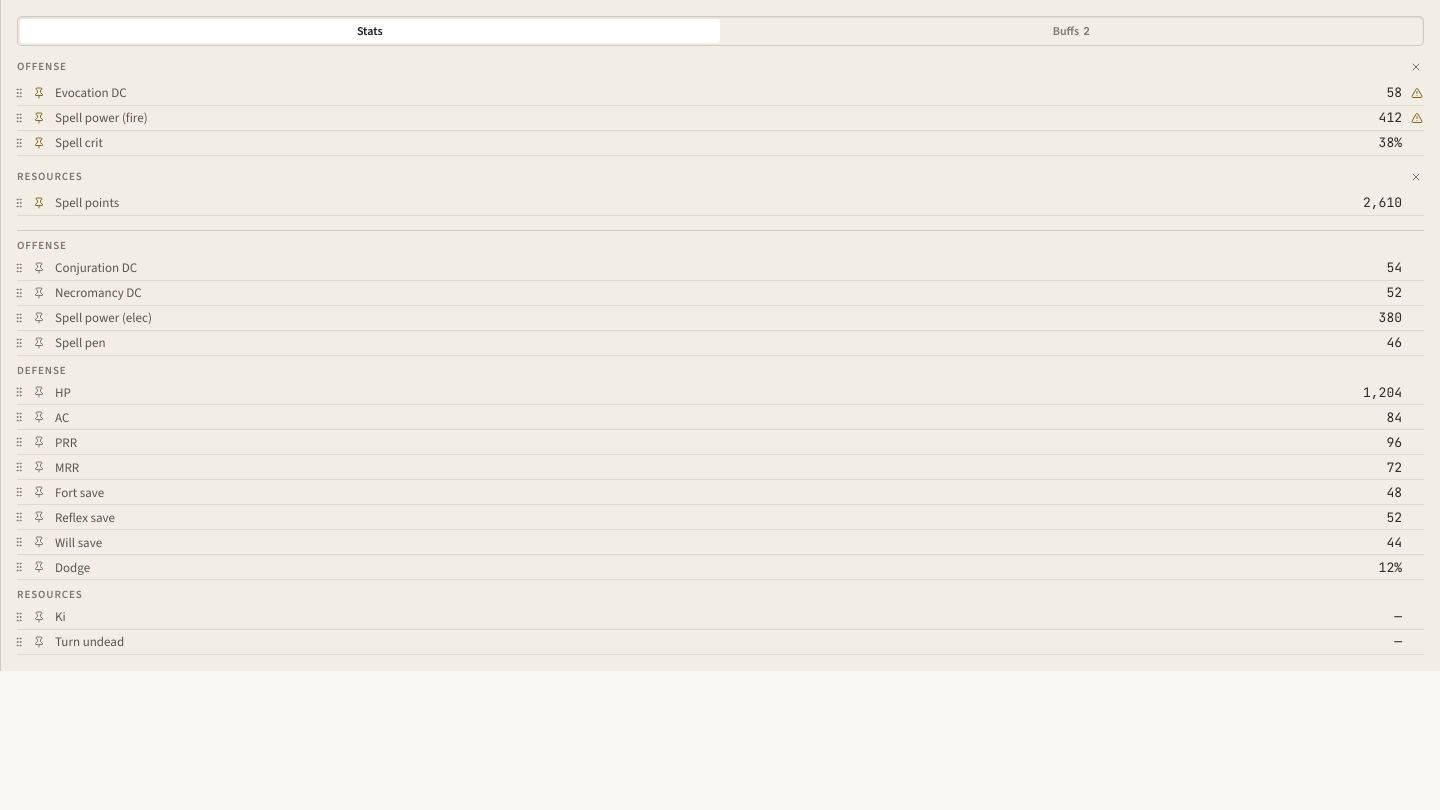
it: StatsPanel › opens on the Stats tab and switches to Buffs and back
Check: the tab "Stats" is shown, box x1=20 y1=19 x2=720 y2=43
Check: the element named "Pinned stats" is shown, box x1=17 y1=56 x2=1424 y2=226
Click the tab "Buffs 2". click: coordinates (1071, 31)
box: x1=722 y1=19 x2=1421 y2=43
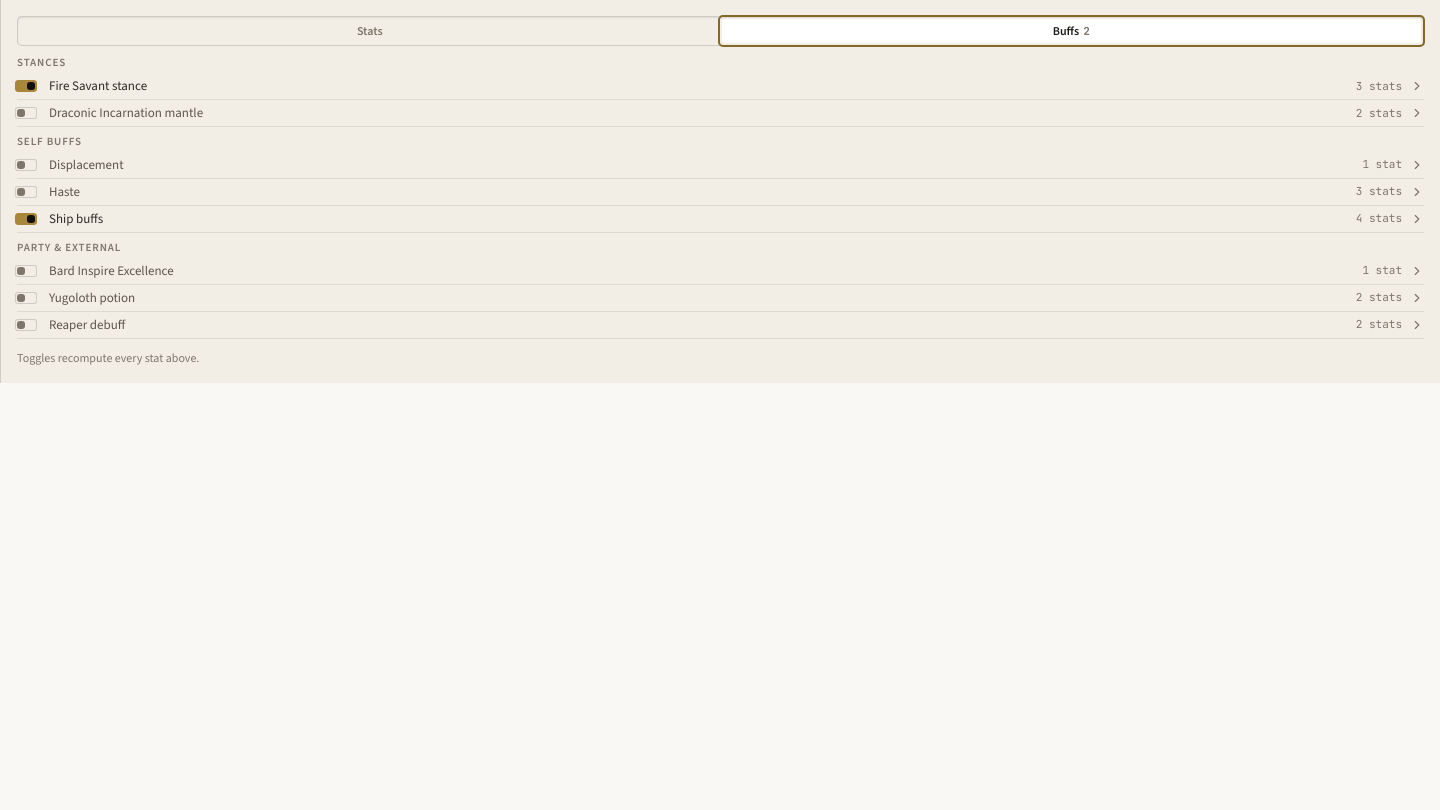
Check: the heading "Stances" is shown, box x1=17 y1=55 x2=66 y2=70
Check: the heading "Self buffs" is shown, box x1=17 y1=134 x2=82 y2=149
Check: the heading "Party & external" is shown, box x1=17 y1=240 x2=121 y2=255
Click the tab "Stats". click: coordinates (370, 31)
box: x1=20 y1=19 x2=720 y2=43
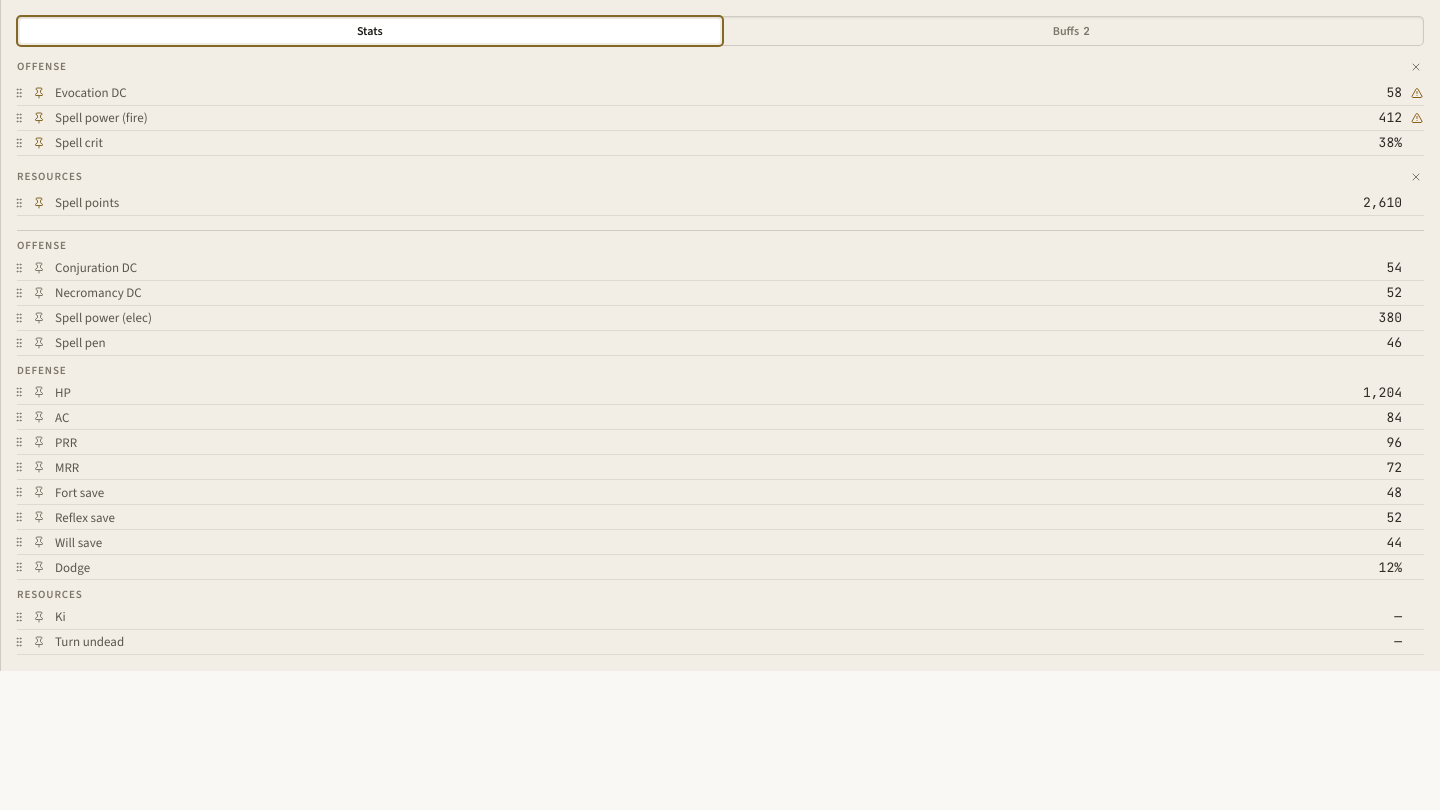
Check: the element named "Pinned stats" is shown, box x1=17 y1=56 x2=1424 y2=226
